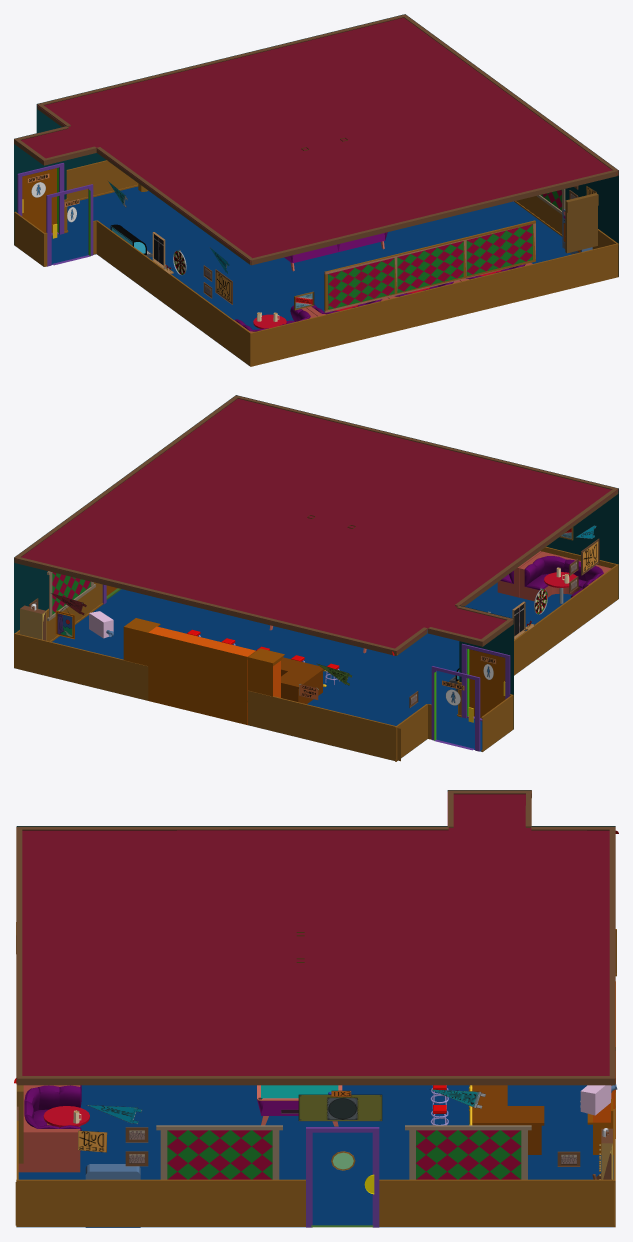
The model's file is Moe's Bar.fbx.
3 views of the same model, one above another, from view 1: azimuth 30°, elevation 25°; view 2: azimuth 150°, elevation 25°; view 3: azimuth 270°, elevation 25° (orthographic). The views are drawn at different scales.
Visible parts, largest first — view 1: Mesh_2_1_Mesh.040, Mesh_4_2_Mesh.046, Mesh_2_3_Mesh.042, Mesh_4_0.002_Mesh.044, Mesh_2_0.002_Mesh.039, Mesh_3_0.002_Mesh.043; view 2: Mesh_2_1_Mesh.040, Mesh_4_2_Mesh.046, Mesh_2_3_Mesh.042, Mesh_4_0.002_Mesh.044, Mesh_2_0.002_Mesh.039, Mesh_3_0.002_Mesh.043; view 3: Mesh_2_1_Mesh.040, Mesh_2_3_Mesh.042, Mesh_4_2_Mesh.046, Mesh_2_0.002_Mesh.039, Mesh_4_0.002_Mesh.044.
Boxes of the visible parts, x1,y1,x2,y2 form: Mesh_2_1_Mesh.040: (17,17,618,332); Mesh_4_2_Mesh.046: (14,14,618,366); Mesh_2_3_Mesh.042: (25,186,571,364); Mesh_4_0.002_Mesh.044: (14,14,618,276); Mesh_2_0.002_Mesh.039: (108,181,596,308); Mesh_3_0.002_Mesh.043: (27,173,79,222); Mesh_2_1_Mesh.040: (15,398,618,761); Mesh_4_2_Mesh.046: (14,395,618,761); Mesh_2_3_Mesh.042: (52,582,615,754); Mesh_4_0.002_Mesh.044: (14,395,618,750); Mesh_2_0.002_Mesh.039: (20,525,598,704); Mesh_3_0.002_Mesh.043: (442,655,496,705); Mesh_2_1_Mesh.040: (15,792,618,1227); Mesh_2_3_Mesh.042: (17,1085,613,1227); Mesh_4_2_Mesh.046: (14,790,616,1227); Mesh_2_0.002_Mesh.039: (78,1089,612,1179); Mesh_4_0.002_Mesh.044: (16,790,615,1227).
Size of the model in its own units: 1872 by 454 by 1650.
